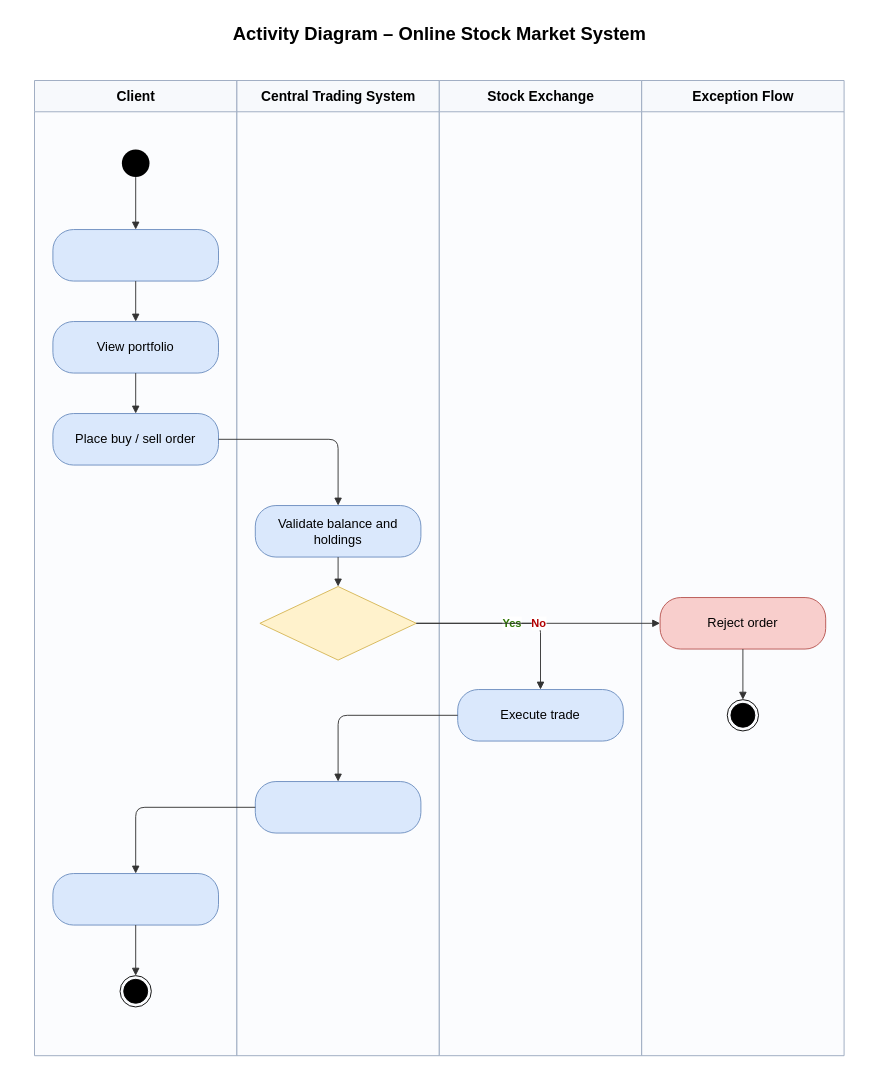
Some shapes in this 878 by 1072 pixel diagram are drawn without their labels. The shapes that lost their labels are listed below. From the top down, each one's centre as x and y in pixels, then its label:
At pixel 135 255: "Login".
At pixel 337 623: "Order valid?".
At pixel 337 807: "Update portfolio".
At pixel 135 899: "View confirmation".
